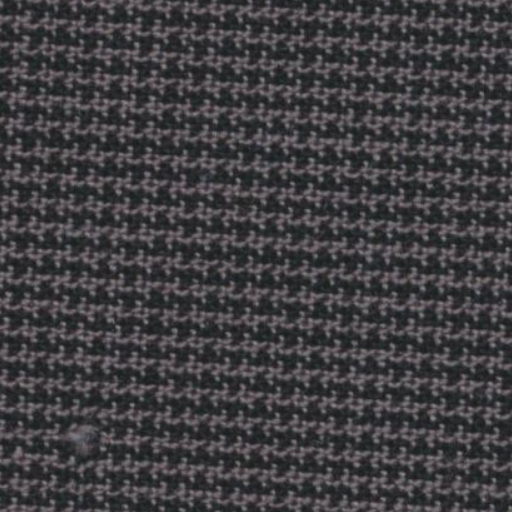PoDong: (40, 398, 128, 474)
